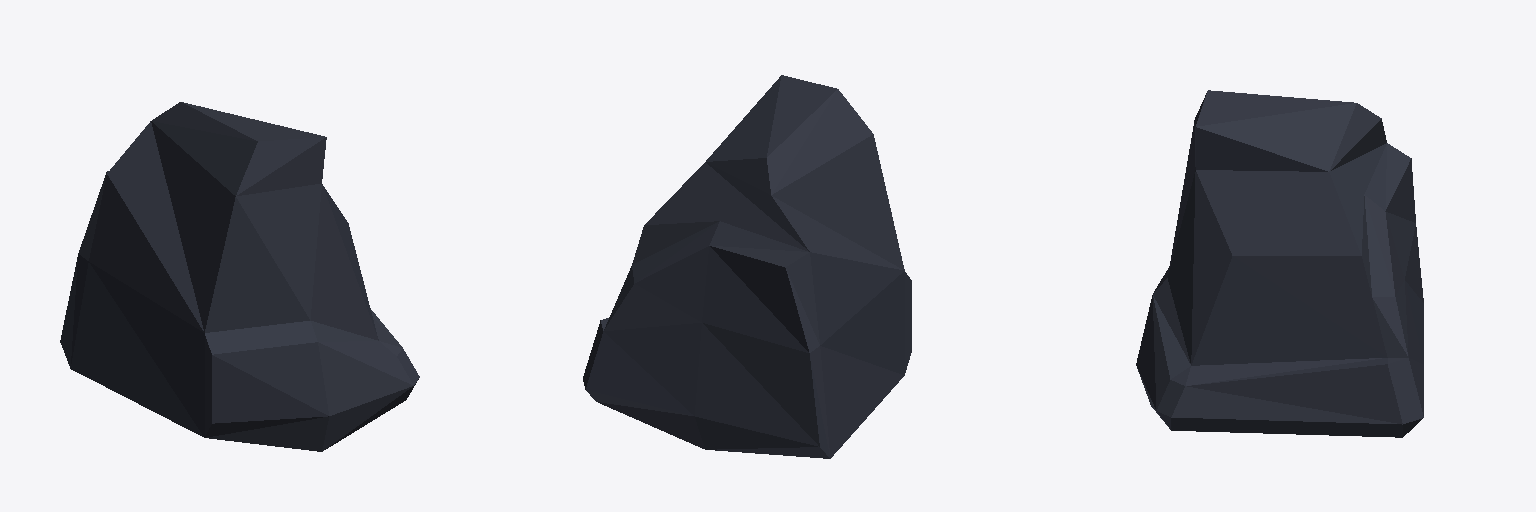
The model's file is Rock.obj.
3 views of the same model, side by side, from view 1: azimuth 30°, elevation 25°; view 2: azimuth 150°, elevation 25°; view 3: azimuth 270°, elevation 25° (orthographic).
Visible parts, largest first — view 1: Rock_2; view 2: Rock_2; view 3: Rock_2.
Boxes of the visible parts, <box> form: Rock_2: <box>60,102,419,451</box>; Rock_2: <box>583,75,911,458</box>; Rock_2: <box>1136,90,1423,437</box>.
Size of the model in its own units: 0.5614 by 0.6456 by 0.565.